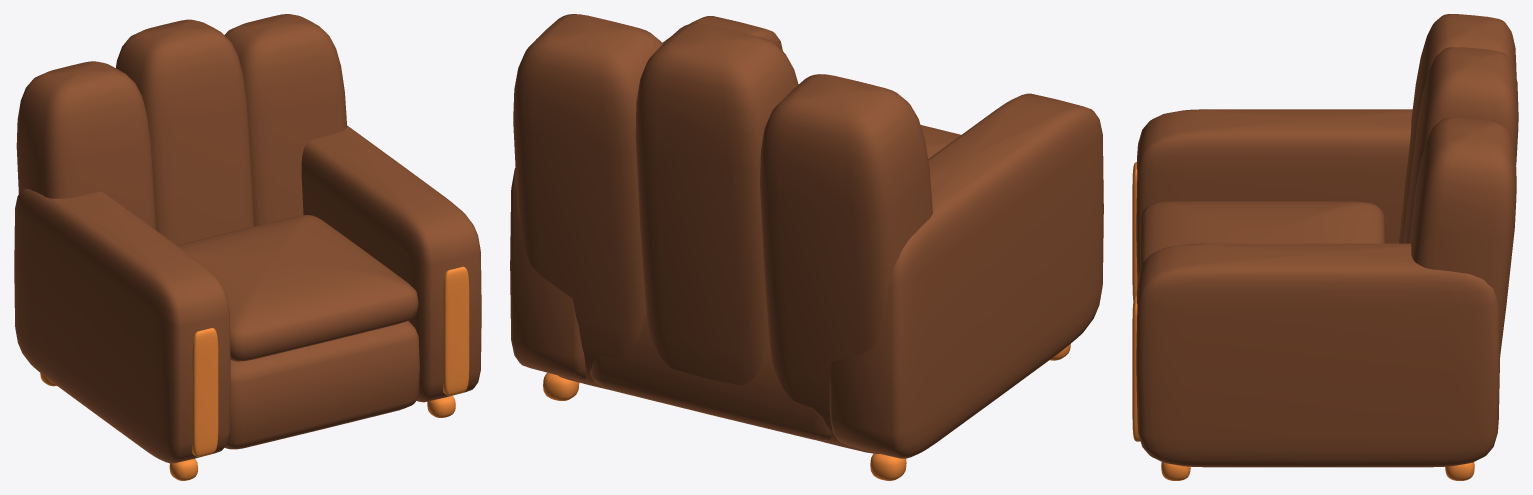
File: poltrona_capitone_couro.glb
3 renders of one model, left to right at view 1: azimuth 30°, elevation 25°; view 2: azimuth 150°, elevation 25°; view 3: azimuth 270°, elevation 25°, orthographic. The views are drawn at different scales.
Visible parts, largest first — view 1: poltrona_capitone_couro; view 2: poltrona_capitone_couro; view 3: poltrona_capitone_couro.
Boxes of the visible parts, x1=… form: poltrona_capitone_couro: x1=14, y1=14, x2=481, y2=480; poltrona_capitone_couro: x1=510, y1=14, x2=1103, y2=480; poltrona_capitone_couro: x1=1132, y1=14, x2=1518, y2=480.
Size of the model in its own units: 0.94 by 0.9082 by 0.9116.
Materials: 1 (1 with a texture image).
